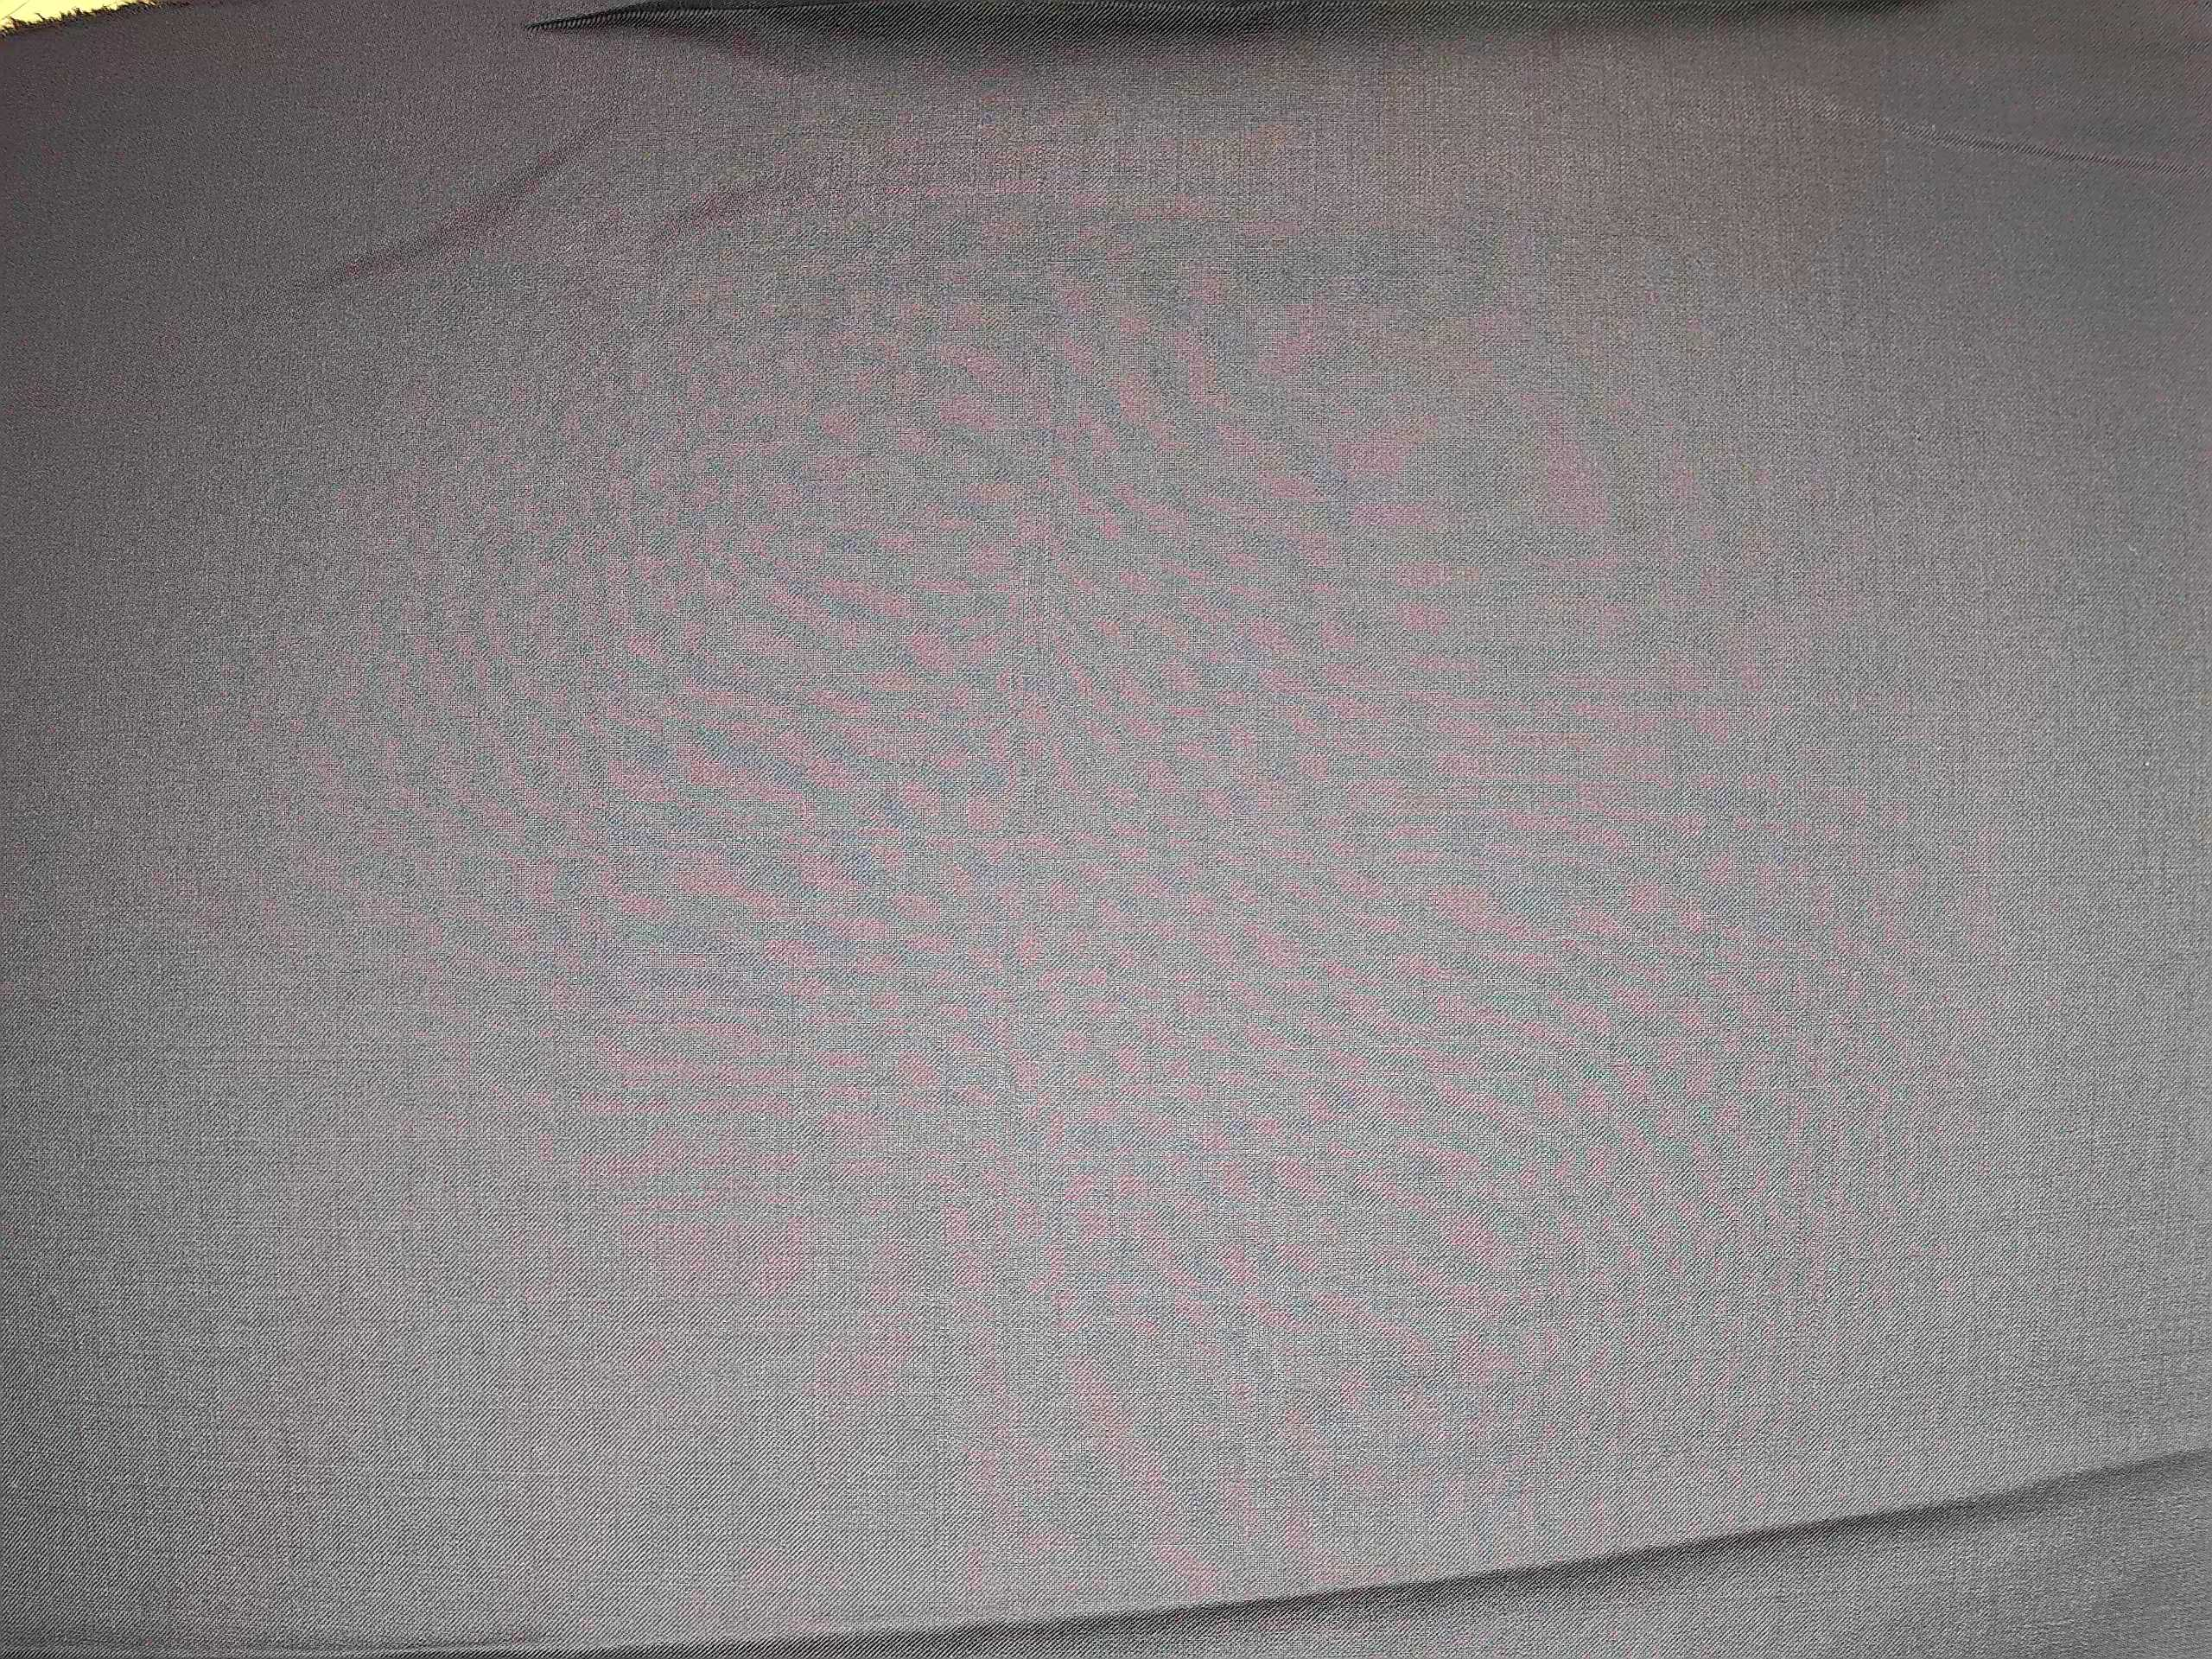hanging-warp: (998, 328, 1075, 664)
